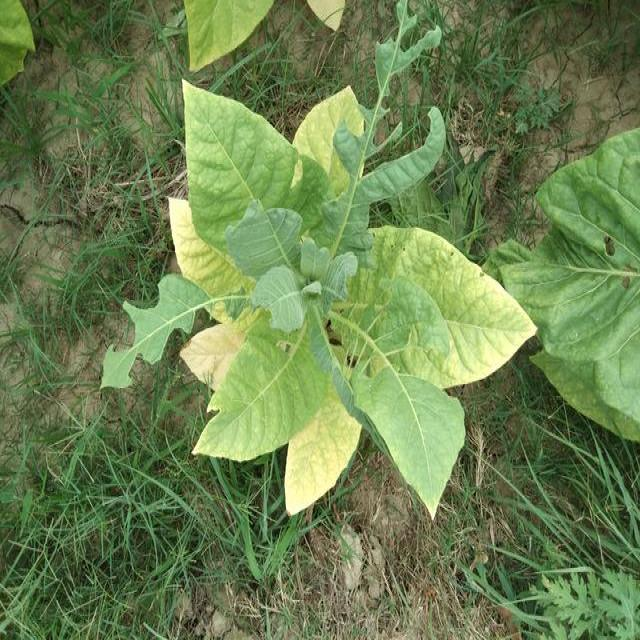crop: (156, 55, 541, 524)
